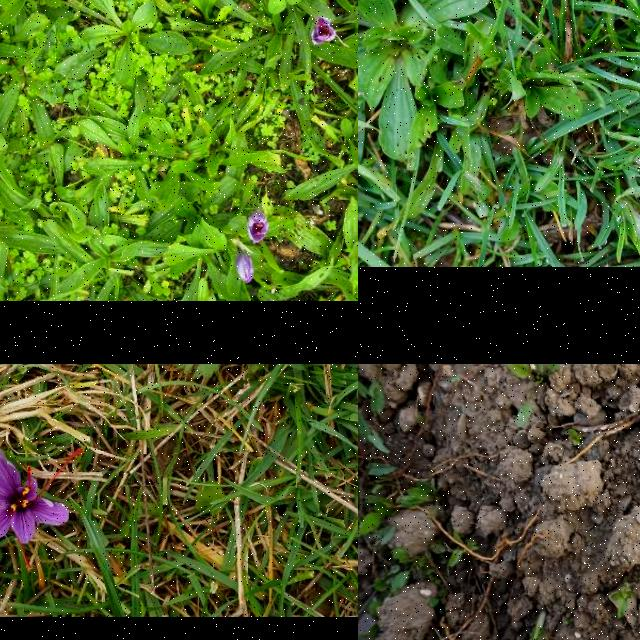flower: (0, 444, 85, 569), (248, 212, 268, 246), (312, 16, 336, 44), (238, 254, 256, 288)
